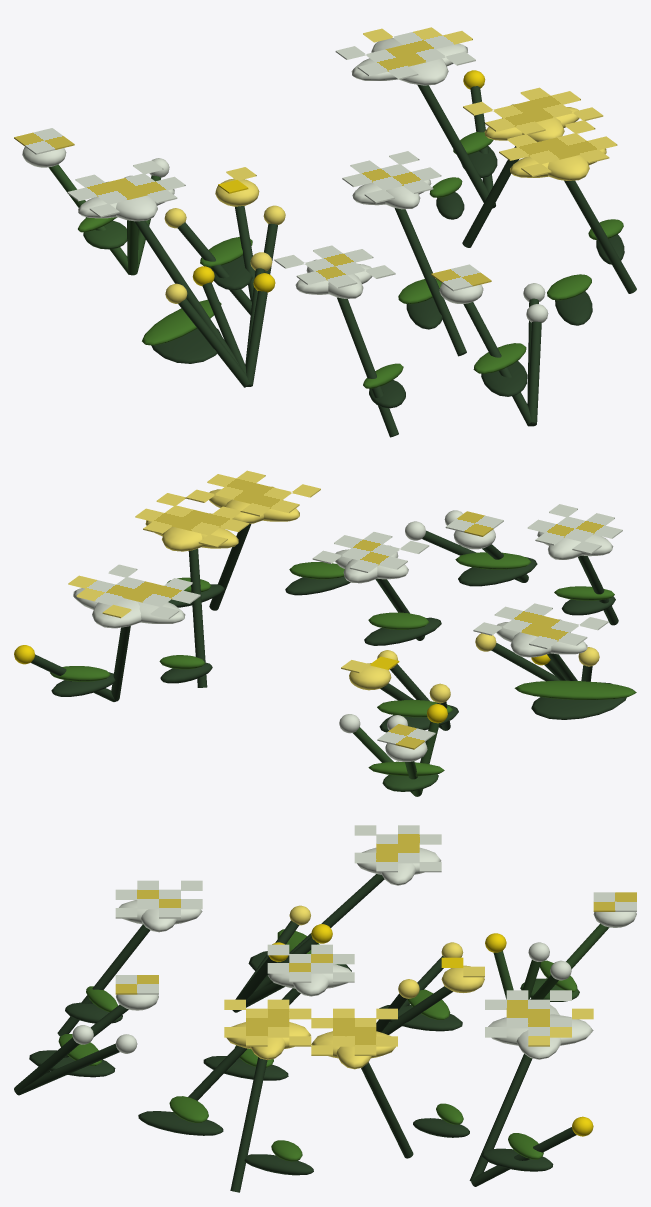
The model's file is CMU3DFlowersy3.glb.
The picture shows the model from 3 angles, top to bottom: view 1: azimuth 30°, elevation 25°; view 2: azimuth 150°, elevation 25°; view 3: azimuth 270°, elevation 25°; orthographic projection. The views are drawn at different scales.
Parts seen in each view (by area): view 1: bloom 2 original petal colors, bloom 11 original petal colors, bloom 9 original petal colors, bloom 16 original petal colors, bloom 18 original petal colors, bloom 12 original petal colors, bloom 12 branching stem, foliage 5 low leaf, bloom 2 branching stem, bloom 9 branching stem, bloom 16 branching stem, bloom 18 branching stem (+33 smaller); view 2: bloom 2 original petal colors, bloom 16 original petal colors, bloom 9 original petal colors, bloom 11 original petal colors, bloom 12 original petal colors, bloom 18 original petal colors, foliage 5 raised leaf, foliage 5 low leaf, bloom 11 branching stem, foliage 10 low leaf, foliage 7 low leaf, foliage 10 raised leaf (+34 smaller); view 3: bloom 2 original petal colors, bloom 9 original petal colors, bloom 16 original petal colors, bloom 11 original petal colors, bloom 12 original petal colors, bloom 18 original petal colors, bloom 16 branching stem, bloom 2 branching stem, foliage 8 low leaf, bloom 18 branching stem, bloom 11 branching stem, bloom 20 branching stem (+32 smaller).
Part boxes in pixels (x1,y1,x2,y2): bloom 2 original petal colors: (335, 27, 475, 79); bloom 11 original petal colors: (463, 87, 603, 134); bloom 9 original petal colors: (67, 160, 185, 217); bloom 16 original petal colors: (499, 120, 617, 177); bloom 18 original petal colors: (274, 245, 395, 288); bloom 12 original petal colors: (342, 151, 441, 203); bloom 12 branching stem: (394, 208, 466, 356); foliage 5 low leaf: (151, 328, 220, 363); bloom 2 branching stem: (417, 84, 494, 205); bloom 9 branching stem: (134, 220, 247, 387); bloom 16 branching stem: (564, 180, 636, 293); bloom 18 branching stem: (337, 297, 398, 437); bloom 2 original petal colors: (68, 564, 200, 619); bloom 16 original petal colors: (186, 470, 320, 516); bloom 9 original petal colors: (473, 603, 608, 649); bloom 11 original petal colors: (135, 493, 249, 547); bloom 12 original petal colors: (312, 532, 429, 572); bloom 18 original petal colors: (527, 504, 622, 554); foliage 5 raised leaf: (514, 680, 636, 699); foliage 5 low leaf: (531, 682, 626, 719); bloom 11 branching stem: (188, 548, 207, 687); foliage 10 low leaf: (458, 557, 537, 586); foliage 7 low leaf: (364, 617, 441, 645); foliage 10 raised leaf: (455, 552, 531, 569); bloom 2 original petal colors: (485, 990, 593, 1046); bloom 9 original petal colors: (354, 825, 441, 872); bloom 16 original petal colors: (224, 999, 311, 1046); bloom 11 original petal colors: (311, 1008, 397, 1055); bloom 12 original petal colors: (267, 944, 354, 982); bloom 18 original petal colors: (115, 880, 202, 918); bloom 16 branching stem: (230, 1057, 267, 1192); bloom 2 branching stem: (469, 1053, 532, 1181); foliage 8 low leaf: (138, 1111, 223, 1135); bloom 18 branching stem: (57, 924, 150, 1036); bloom 11 branching stem: (361, 1062, 413, 1158); bloom 20 branching stem: (15, 1043, 119, 1095).
Size of the model in its own units: 0.8125 by 0.2309 by 0.8963.
14 materials, 8 textured.
